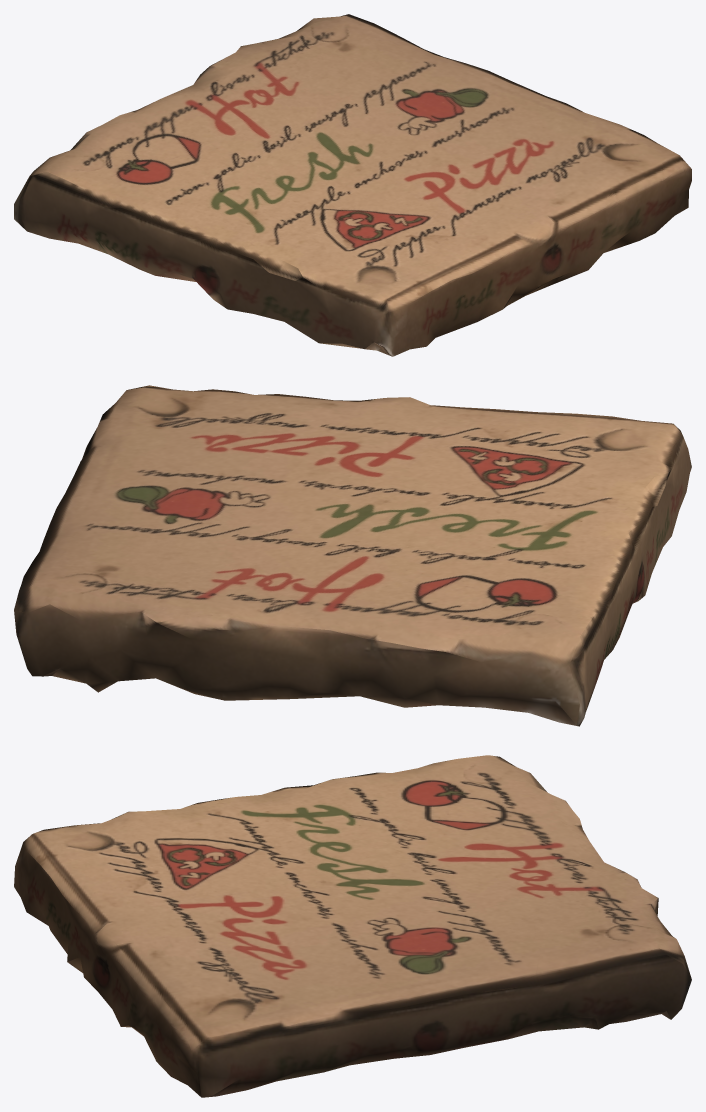
Rendered from pizza-boxx.glb.
The picture shows the model from 3 angles, top to bottom: view 1: azimuth 30°, elevation 25°; view 2: azimuth 150°, elevation 25°; view 3: azimuth 270°, elevation 25°; orthographic projection. The views are drawn at different scales.
Visible parts, largest first — view 1: Object_2; view 2: Object_2; view 3: Object_2.
Part boxes in pixels (<box>): Object_2: <box>14,14,691,356</box>; Object_2: <box>14,385,691,726</box>; Object_2: <box>14,755,691,1097</box>.
Size of the model in its own units: 3.53 by 0.5138 by 3.58.
Materials: 1 (1 with a texture image).
